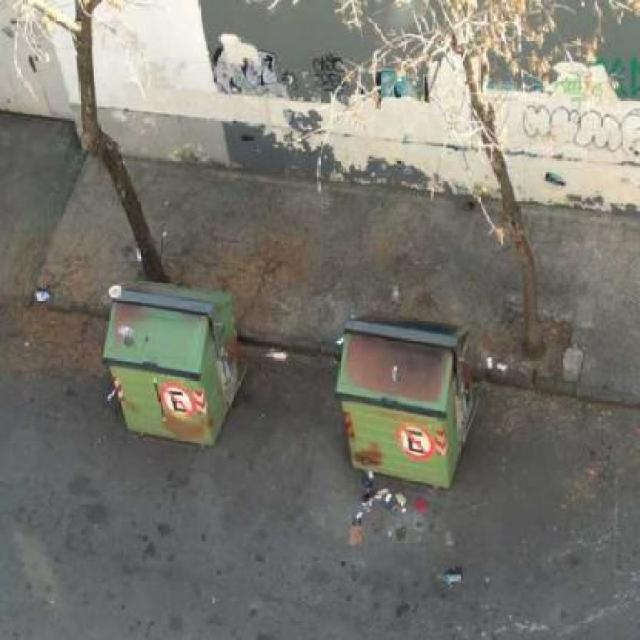garbage: (332, 468, 454, 597), (85, 366, 126, 432), (471, 331, 512, 391), (92, 252, 130, 304), (28, 268, 56, 324), (123, 223, 156, 267), (260, 345, 293, 375), (382, 283, 415, 302)
